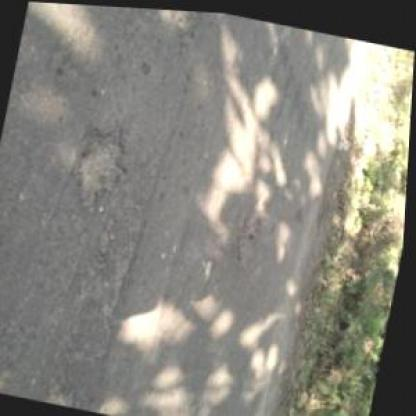pothole: (65, 118, 136, 213), (230, 209, 269, 270)
